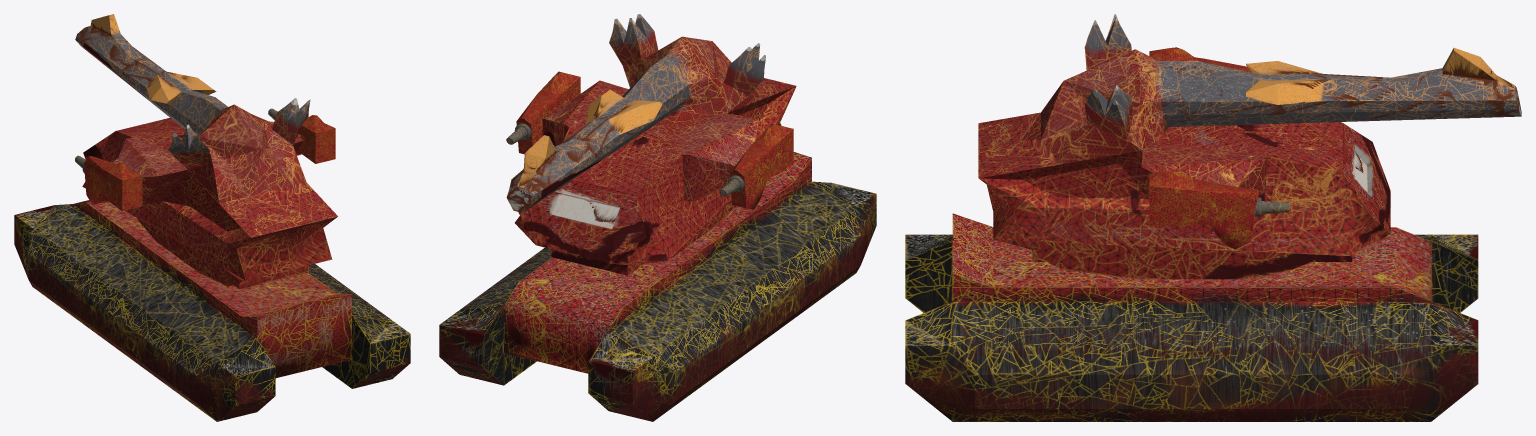
File: BasicTank.fbx
3 renders of one model, left to right at view 1: azimuth 30°, elevation 25°; view 2: azimuth 150°, elevation 25°; view 3: azimuth 270°, elevation 25°, orthographic. The views are drawn at different scales.
Visible parts, largest first — view 1: polySurface4, polySurface5; view 2: polySurface4, polySurface5; view 3: polySurface4, polySurface5.
Boxes of the visible parts, x1,y1,x2,y2 form: polySurface4: [14, 200, 410, 421]; polySurface5: [75, 14, 337, 289]; polySurface4: [439, 152, 876, 421]; polySurface5: [506, 14, 796, 275]; polySurface4: [905, 213, 1478, 421]; polySurface5: [978, 14, 1521, 279].
Size of the model in its own units: 6.89 by 7.55 by 13.28.
